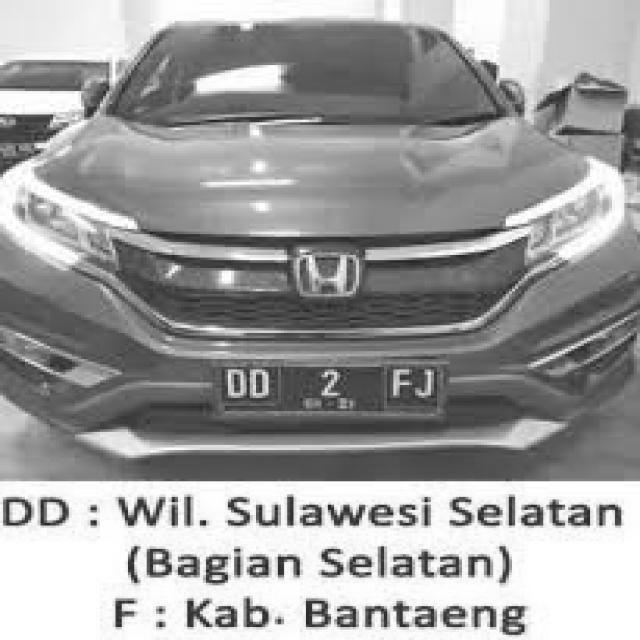2: (313, 370, 349, 400)
D: (225, 366, 248, 401), (248, 367, 273, 399)
F: (386, 363, 414, 412)
J: (413, 360, 443, 410)
